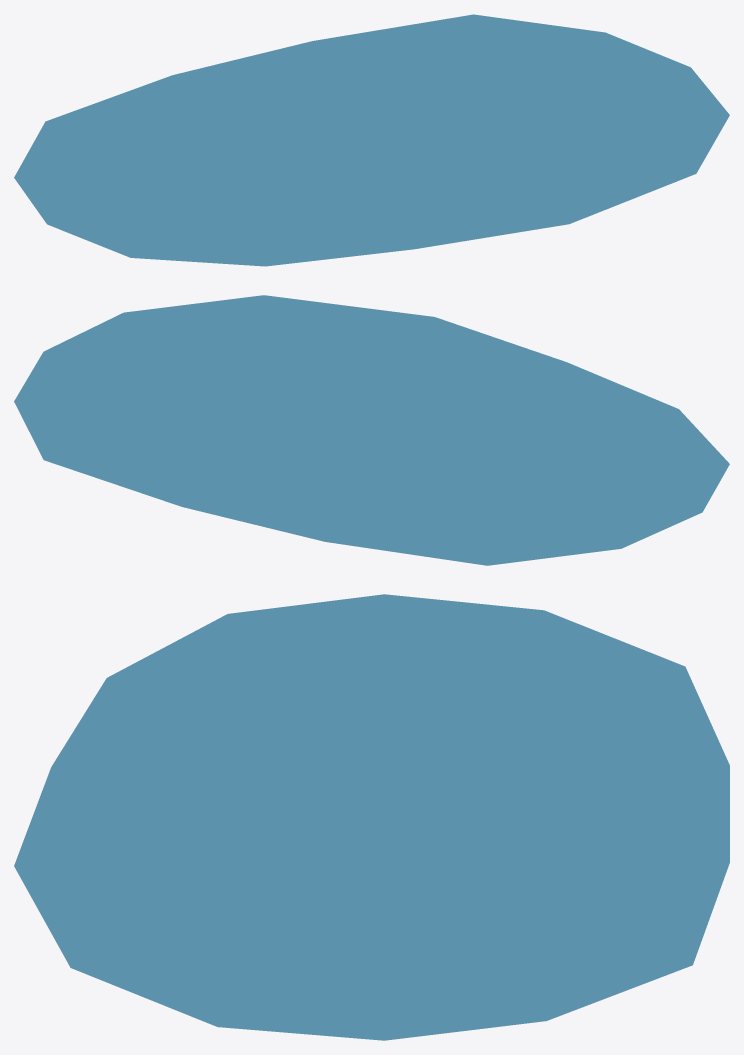
The model's file is puddle_decal.glb.
3 renders of one model, top to bottom at view 1: azimuth 30°, elevation 25°; view 2: azimuth 150°, elevation 25°; view 3: azimuth 270°, elevation 25°, orthographic. The views are drawn at different scales.
Parts seen in each view (by area): view 1: Puddle; view 2: Puddle; view 3: Puddle.
Boxes of the visible parts, x1,y1,x2,y2 form: Puddle: (14, 14, 729, 266); Puddle: (14, 295, 729, 565); Puddle: (14, 594, 729, 1040).
Bounding box in the file's own units: 1.42 × 0 × 0.9601.
1 material, 1 textured.
